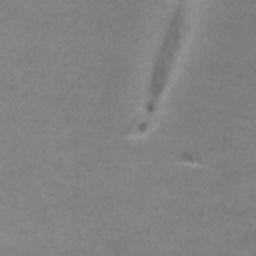Finishing roll printing: (145, 1, 192, 113), (174, 150, 209, 172), (136, 119, 150, 134)
